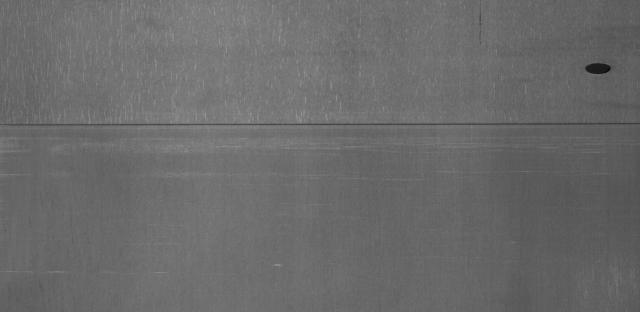punching_hole: (579, 60, 614, 78)
welding_line: (2, 111, 640, 131)
